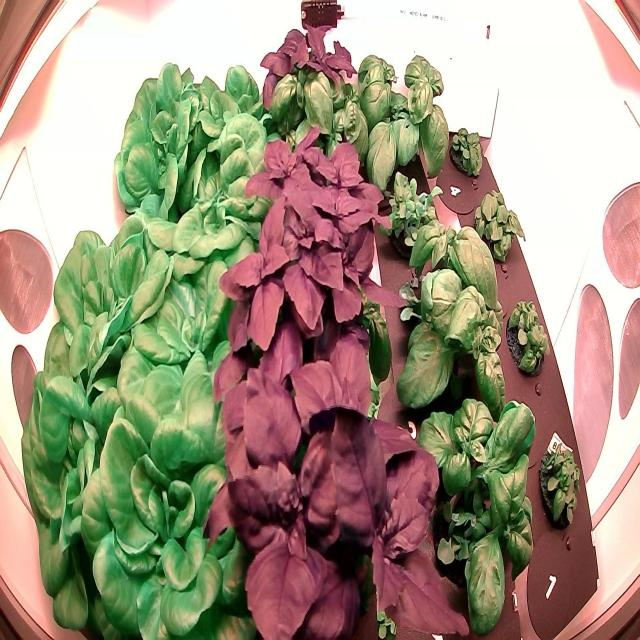Ready: (71, 359, 259, 640), (114, 230, 260, 460), (14, 368, 130, 630), (40, 200, 176, 405), (108, 37, 217, 219), (163, 142, 279, 299), (187, 48, 289, 205)
